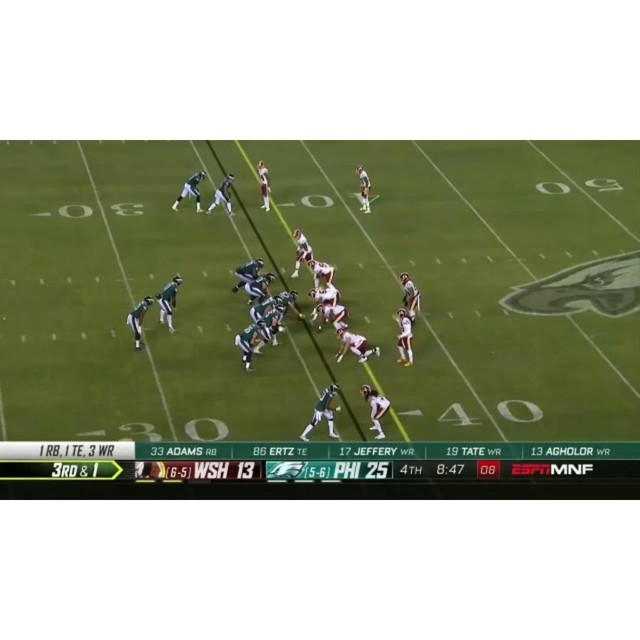american-football-player: (299, 382, 341, 442), (333, 326, 381, 364), (359, 384, 391, 439), (157, 274, 183, 333), (234, 321, 264, 372), (171, 170, 207, 212), (127, 295, 153, 351), (255, 306, 285, 350), (207, 172, 236, 217), (394, 308, 415, 367), (231, 258, 264, 295), (291, 228, 314, 279), (398, 271, 421, 321), (312, 303, 349, 332), (308, 288, 340, 321), (306, 258, 337, 290), (275, 289, 305, 322), (245, 273, 275, 306), (248, 295, 280, 324), (355, 164, 372, 213), (257, 160, 271, 211)
